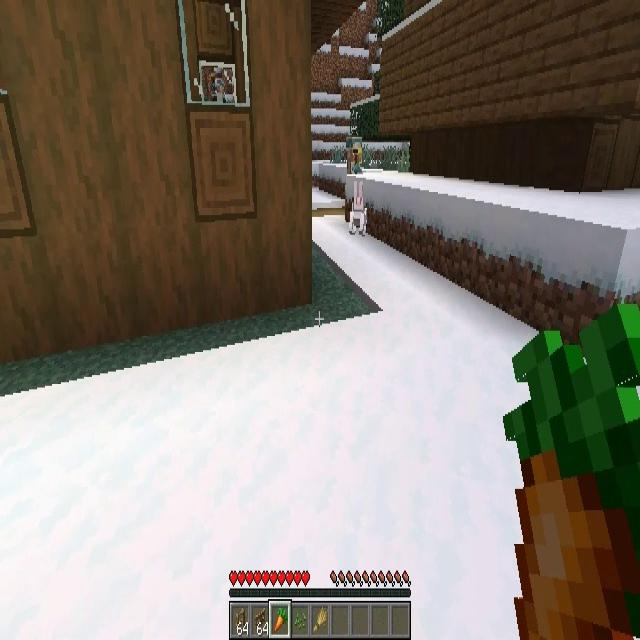people: (346, 137, 364, 176)
rabbit: (348, 182, 368, 236)
